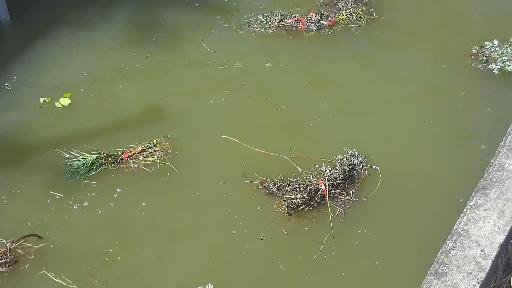leaf: (29, 90, 73, 114)
twig: (210, 109, 403, 267), (50, 129, 178, 196), (242, 9, 395, 38), (0, 227, 46, 278), (465, 37, 512, 77), (41, 262, 109, 288), (315, 0, 386, 10), (189, 282, 222, 288)
